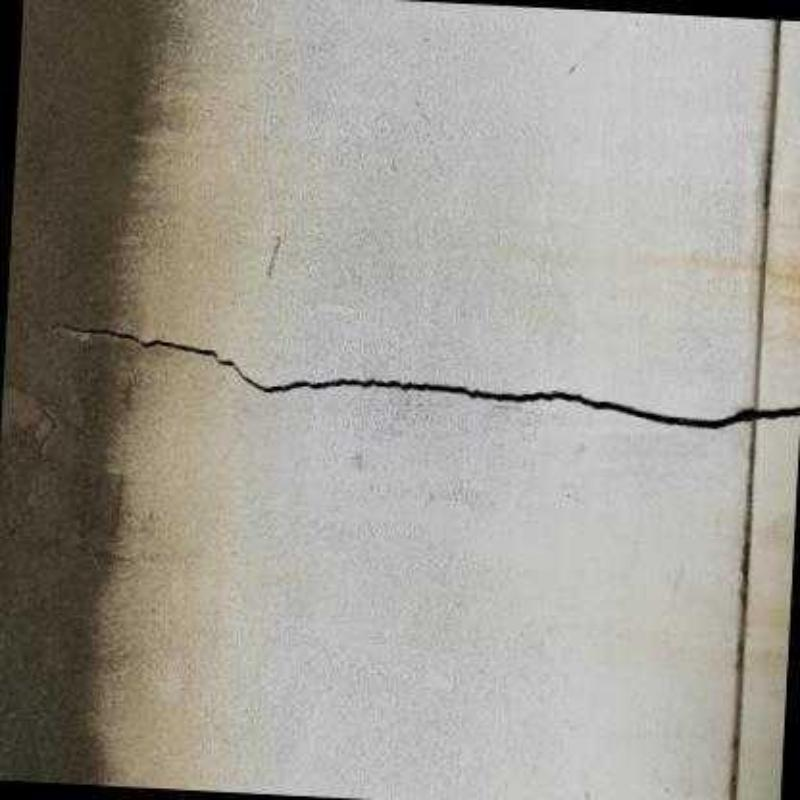pothole: (56, 324, 800, 429)
